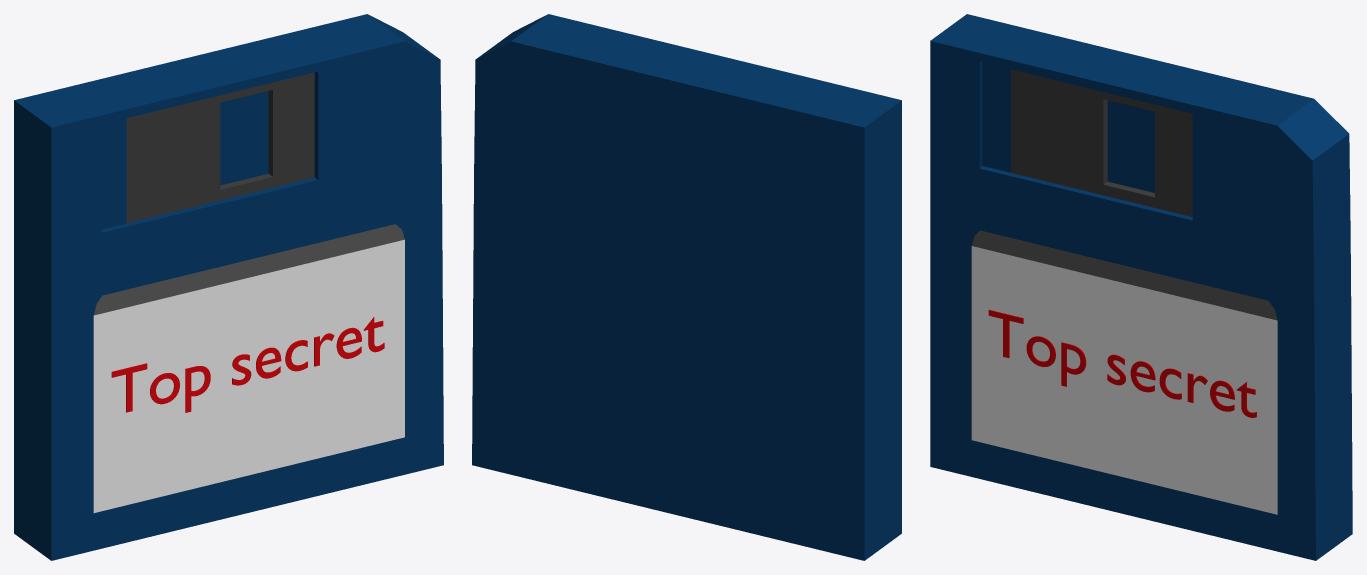
File: collectible_disk.fbx
3 renders of one model, left to right at view 1: azimuth 30°, elevation 25°; view 2: azimuth 150°, elevation 25°; view 3: azimuth 330°, elevation 25°, orthographic.
Visible parts, largest first — view 1: Text; view 2: Text; view 3: Text.
Part boxes in pixels (x1=…): Text: x1=14, y1=14, x2=443, y2=560; Text: x1=472, y1=14, x2=901, y2=560; Text: x1=930, y1=14, x2=1352, y2=560.
Size of the model in its own units: 200 by 211 by 33.49.
